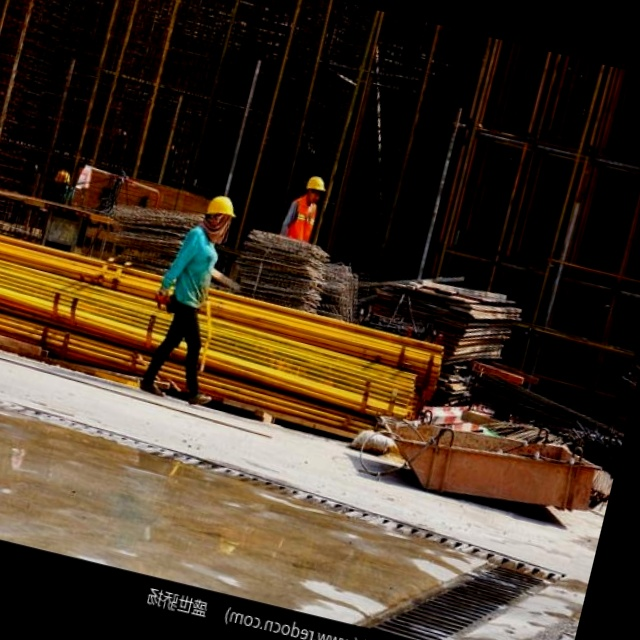Con_Casco: (200, 192, 241, 243), (300, 173, 329, 210)
